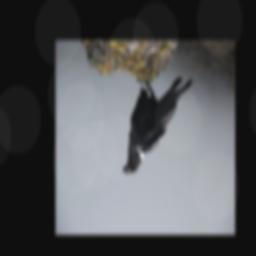Crow: (122, 72, 195, 179)
